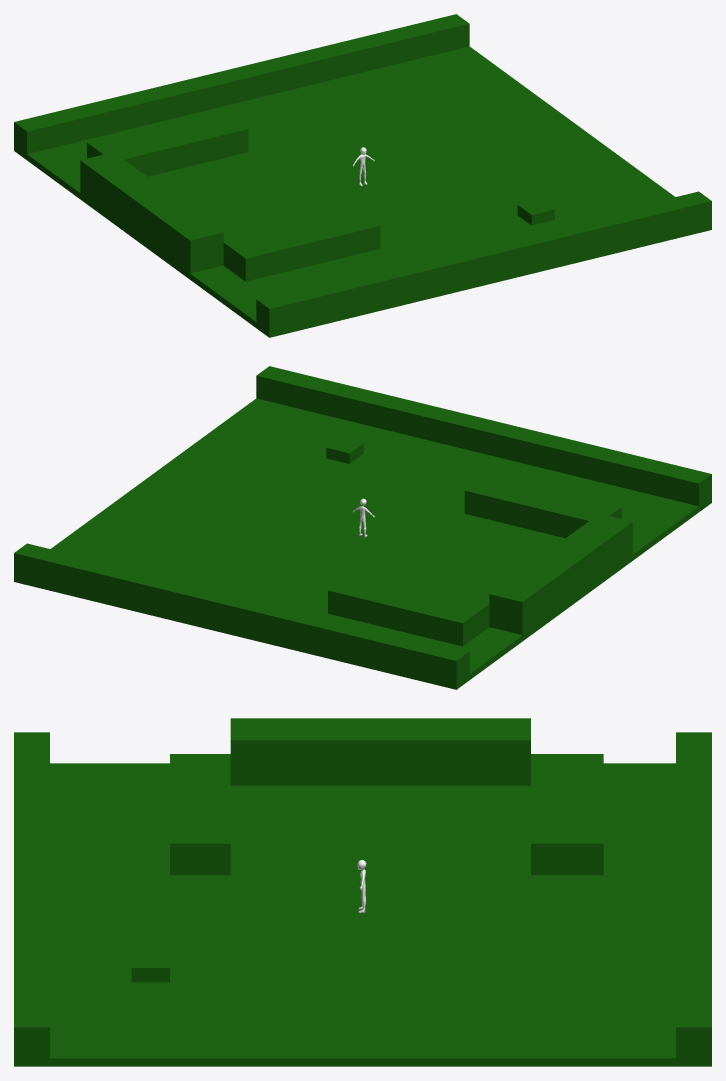
File: trial-bg-parts.glb
3 renders of one model, top to bottom at view 1: azimuth 30°, elevation 25°; view 2: azimuth 150°, elevation 25°; view 3: azimuth 270°, elevation 25°, orthographic. The views are drawn at different scales.
Visible parts, largest first — view 1: floor, walls, walls.001, walls.002, walls.004, walls.005, walls.003; view 2: floor, walls.001, walls, walls.002, walls.005, walls.004, walls.003; view 3: floor, walls.002, walls, walls.001, walls.005, walls.004, walls.003.
Boxes of the visible parts, bbox=[...] form: floor: bbox=[14, 46, 711, 337]; walls: bbox=[256, 191, 711, 331]; walls.001: bbox=[14, 14, 469, 154]; walls.002: bbox=[80, 152, 223, 273]; walls.004: bbox=[223, 209, 380, 281]; walls.005: bbox=[87, 109, 248, 176]; walls.003: bbox=[517, 199, 554, 225]; floor: bbox=[14, 398, 711, 689]; walls.001: bbox=[14, 543, 469, 683]; walls: bbox=[256, 366, 711, 506]; walls.002: bbox=[489, 513, 632, 635]; walls.005: bbox=[328, 571, 489, 646]; walls.004: bbox=[464, 474, 621, 538]; walls.003: bbox=[326, 437, 363, 463]; floor: bbox=[14, 763, 711, 1066]; walls.002: bbox=[230, 718, 530, 785]; walls: bbox=[14, 732, 49, 1058]; walls.001: bbox=[676, 732, 711, 1058]; walls.005: bbox=[531, 754, 603, 875]; walls.004: bbox=[170, 754, 230, 875]; walls.003: bbox=[131, 952, 169, 982].
Bounding box in the file's own units: 15 × 1.4 × 15.
